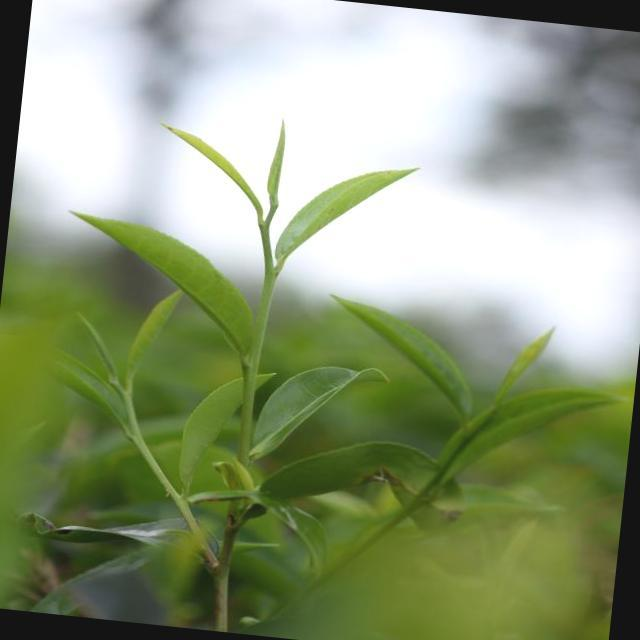Stem: (264, 270, 278, 285), (132, 433, 145, 447)
